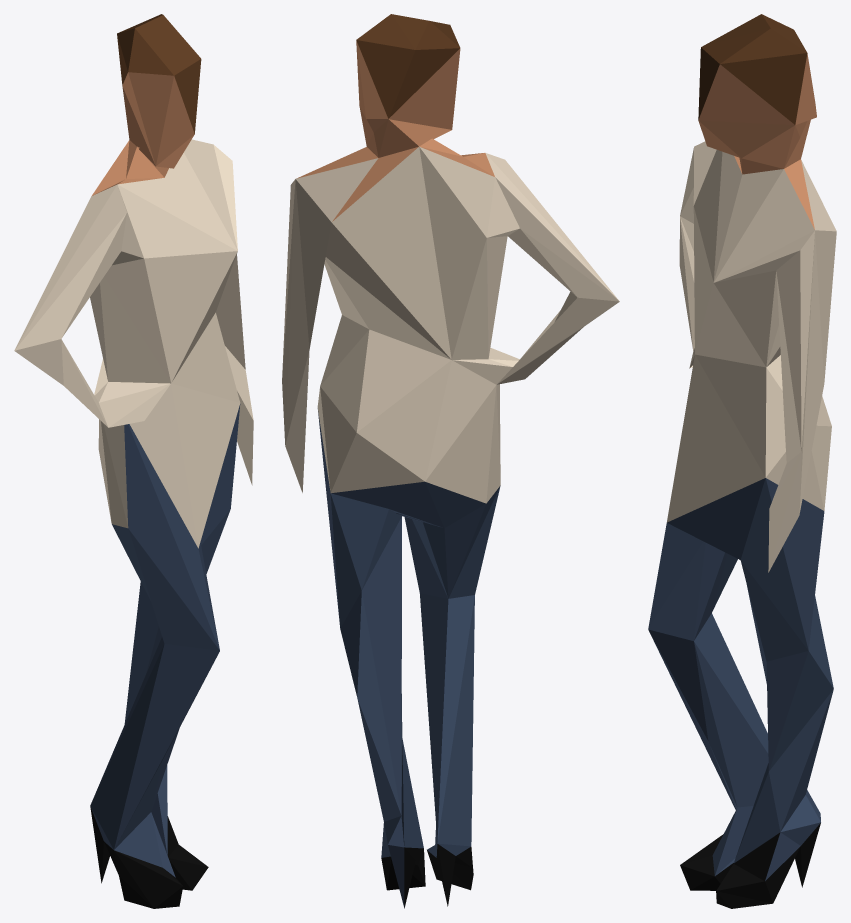
File: walker-6.glb
The picture shows the model from 3 angles, left to right: view 1: azimuth 30°, elevation 25°; view 2: azimuth 150°, elevation 25°; view 3: azimuth 270°, elevation 25°; orthographic projection. The views are drawn at different scales.
Visible parts, largest first — view 1: Woman10; view 2: Woman10; view 3: Woman10.
Part boxes in pixels (x1,y1,x2,y2): Woman10: [14, 14, 253, 908]; Woman10: [282, 14, 619, 908]; Woman10: [648, 14, 836, 908].
Size of the model in its own units: 0.5144 by 1.51 by 0.2964.
